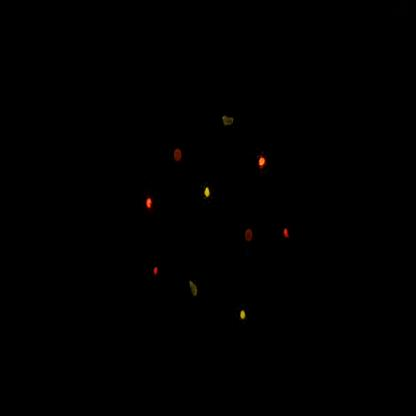PE: (236, 294, 256, 335), (197, 175, 218, 213)
PET: (144, 252, 170, 293), (277, 219, 296, 256)
PP: (216, 109, 240, 137), (186, 271, 205, 306)
PS: (241, 220, 258, 255), (171, 138, 187, 174)
PVC: (142, 183, 157, 222), (253, 146, 271, 176)
